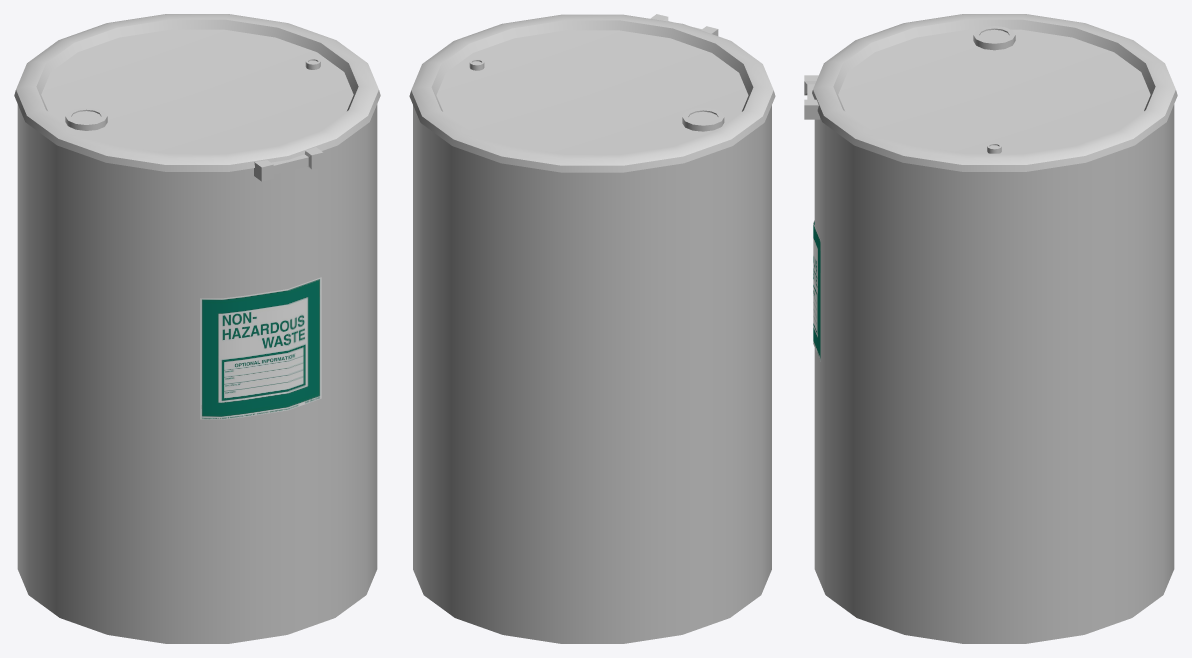
The model's file is Misc_Drum 1.fbx.
3 renders of one model, left to right at view 1: azimuth 30°, elevation 25°; view 2: azimuth 150°, elevation 25°; view 3: azimuth 270°, elevation 25°, orthographic.
Visible parts, largest first — view 1: 55_Gal_Drum_, 55_Gal_Drum_Lid_Low.004, 55_Gal_Drum_.001; view 2: 55_Gal_Drum_, 55_Gal_Drum_Lid_Low.004; view 3: 55_Gal_Drum_, 55_Gal_Drum_Lid_Low.004, 55_Gal_Drum_.001.
Part boxes in pixels (bbox=[...]): 55_Gal_Drum_: bbox=[17, 104, 377, 643]; 55_Gal_Drum_Lid_Low.004: bbox=[14, 14, 380, 181]; 55_Gal_Drum_.001: bbox=[200, 277, 321, 419]; 55_Gal_Drum_: bbox=[413, 105, 771, 643]; 55_Gal_Drum_Lid_Low.004: bbox=[409, 14, 775, 172]; 55_Gal_Drum_: bbox=[814, 104, 1174, 643]; 55_Gal_Drum_Lid_Low.004: bbox=[804, 14, 1177, 171]; 55_Gal_Drum_.001: bbox=[813, 220, 820, 361].
Size of the model in its own units: 58.21 by 85.89 by 60.23.
